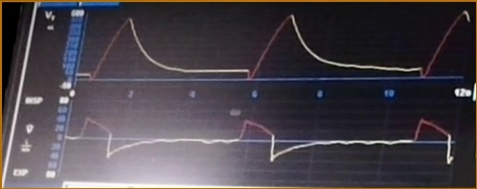Flow: (72, 106, 454, 177)
Leakage Volume: (83, 9, 473, 86)
